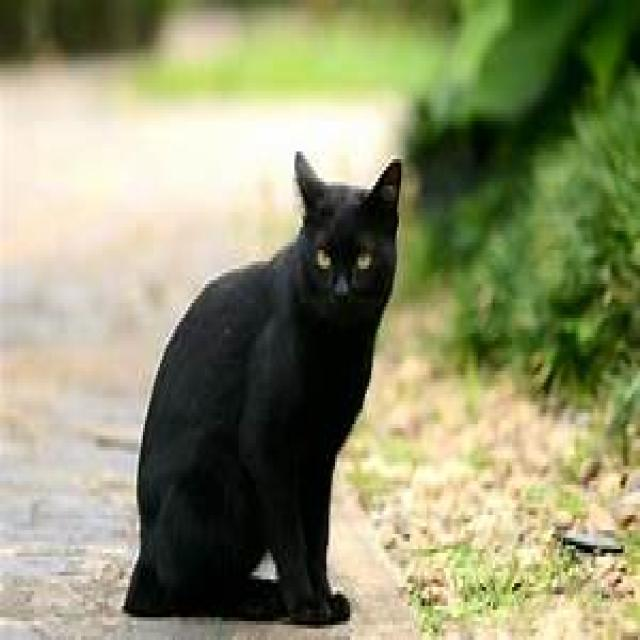animal: (122, 148, 401, 625)
